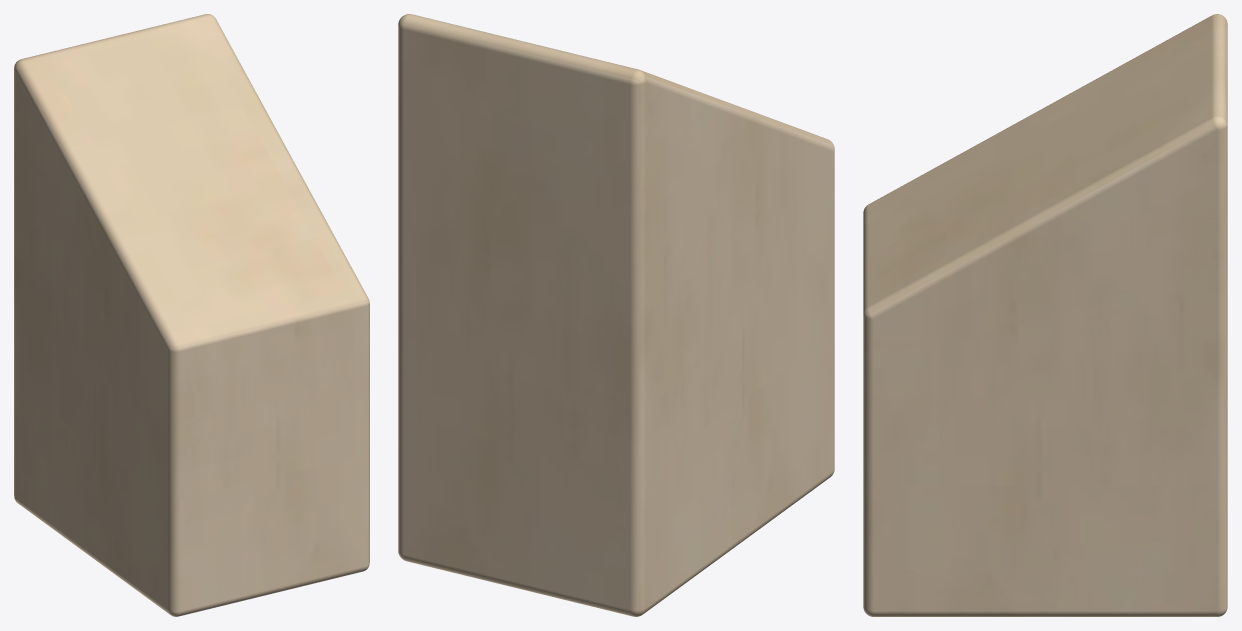
File: Rez_Strelec_bily.glb
The picture shows the model from 3 angles, left to right: view 1: azimuth 30°, elevation 25°; view 2: azimuth 150°, elevation 25°; view 3: azimuth 270°, elevation 25°; orthographic projection. The views are drawn at different scales.
Visible parts, largest first — view 1: Rez_Strelec_bily; view 2: Rez_Strelec_bily; view 3: Rez_Strelec_bily.
Boxes of the visible parts, <box> form: Rez_Strelec_bily: <box>14,14,369,616</box>; Rez_Strelec_bily: <box>398,14,834,616</box>; Rez_Strelec_bily: <box>863,14,1227,616</box>.
Bounding box in the file's own units: 0.02 × 0.0424 × 0.028.
Materials: 2 (2 with a texture image).
